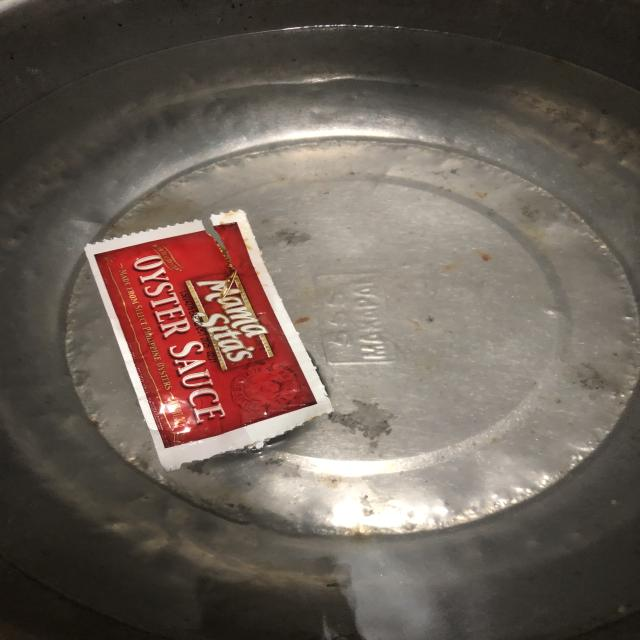Plastic Wrapper: (55, 205, 350, 476)
